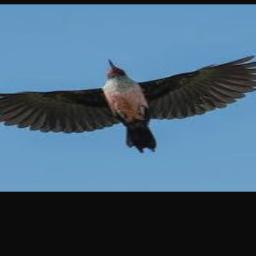Woodpecker: (0, 56, 256, 153)
